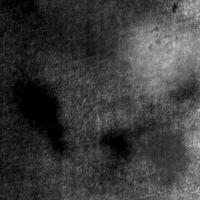patches: (40, 0, 166, 76), (124, 19, 200, 97), (128, 114, 200, 196), (132, 114, 191, 184), (15, 75, 60, 141), (162, 56, 200, 105), (100, 122, 135, 163)
